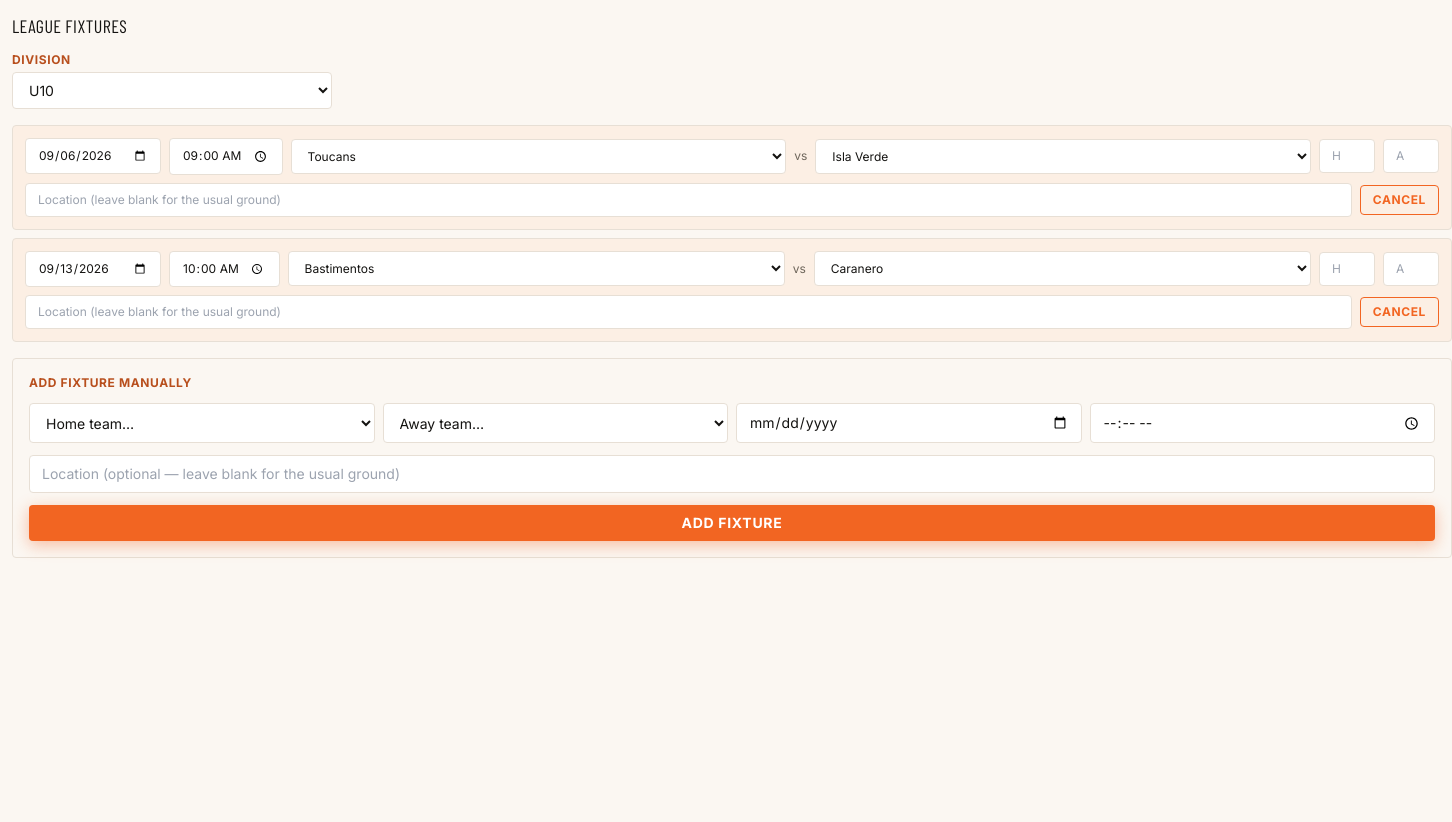
Test: LeagueFixturesAdmin — Save All › regression: a row that fails to save keeps its draft and error while a different row in the same click succeeds
expect the 1st date field showing "2026-09-06" is shown: met, box x1=25 y1=138 x2=161 y2=174
Type "2" into the 1st number field with placeholder "H" at (1347, 156), box x1=1319 y1=139 x2=1375 y2=173
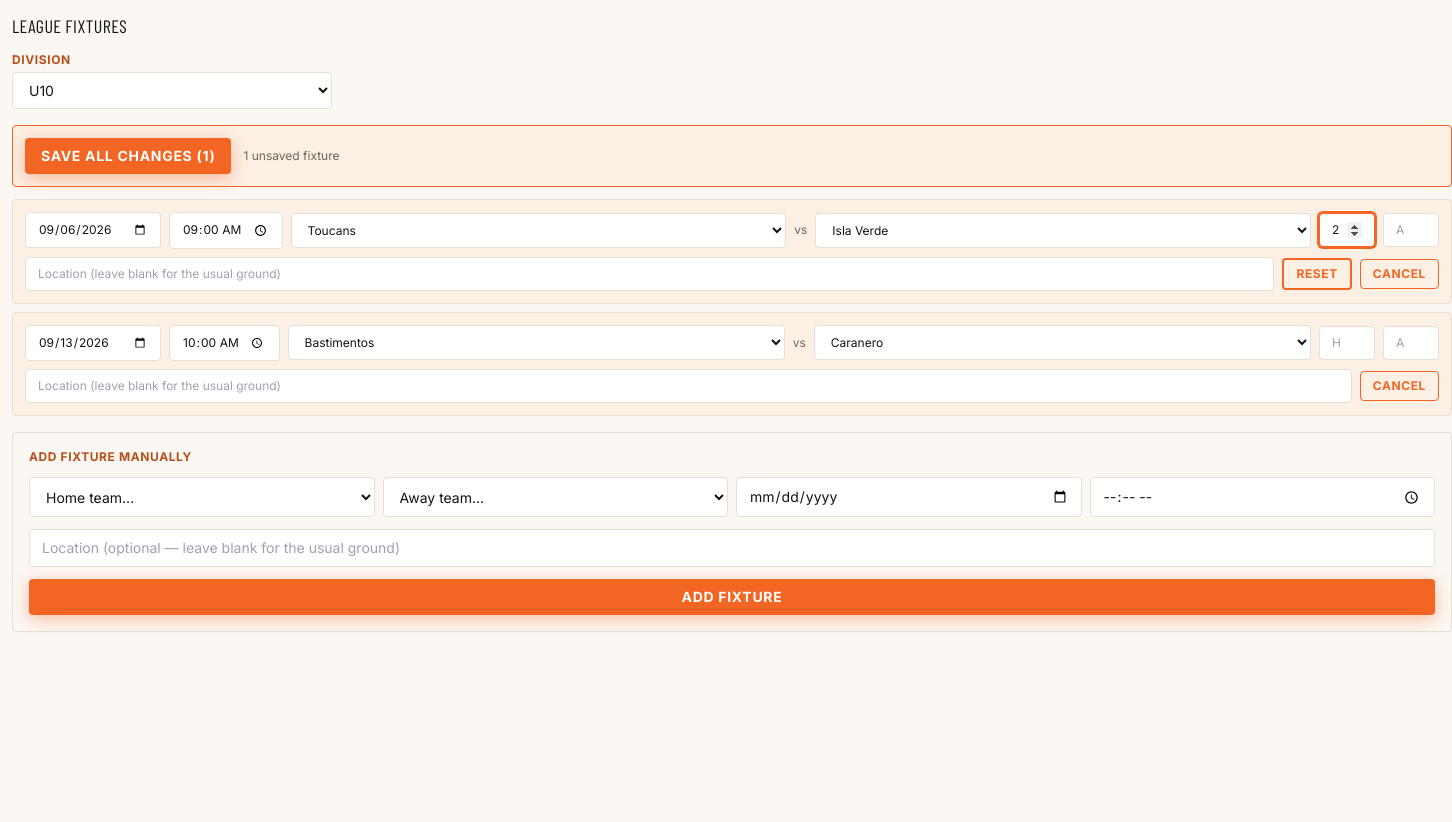
Type "0" into the 1st number field with placeholder "A" at (1411, 230), box x1=1383 y1=213 x2=1439 y2=247
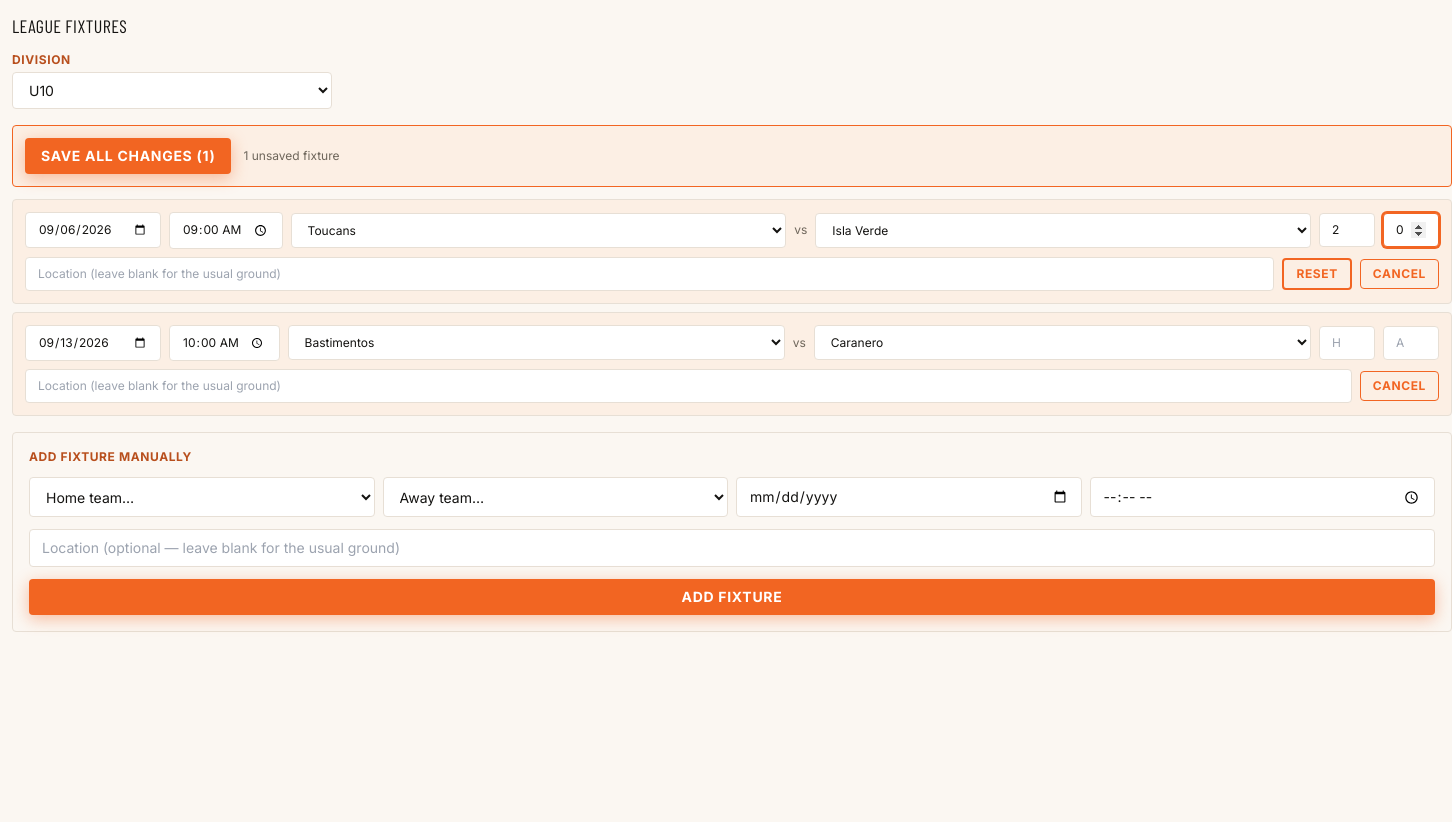
Type "1" into the number field with placeholder "H" at (1347, 343), box x1=1319 y1=326 x2=1375 y2=360
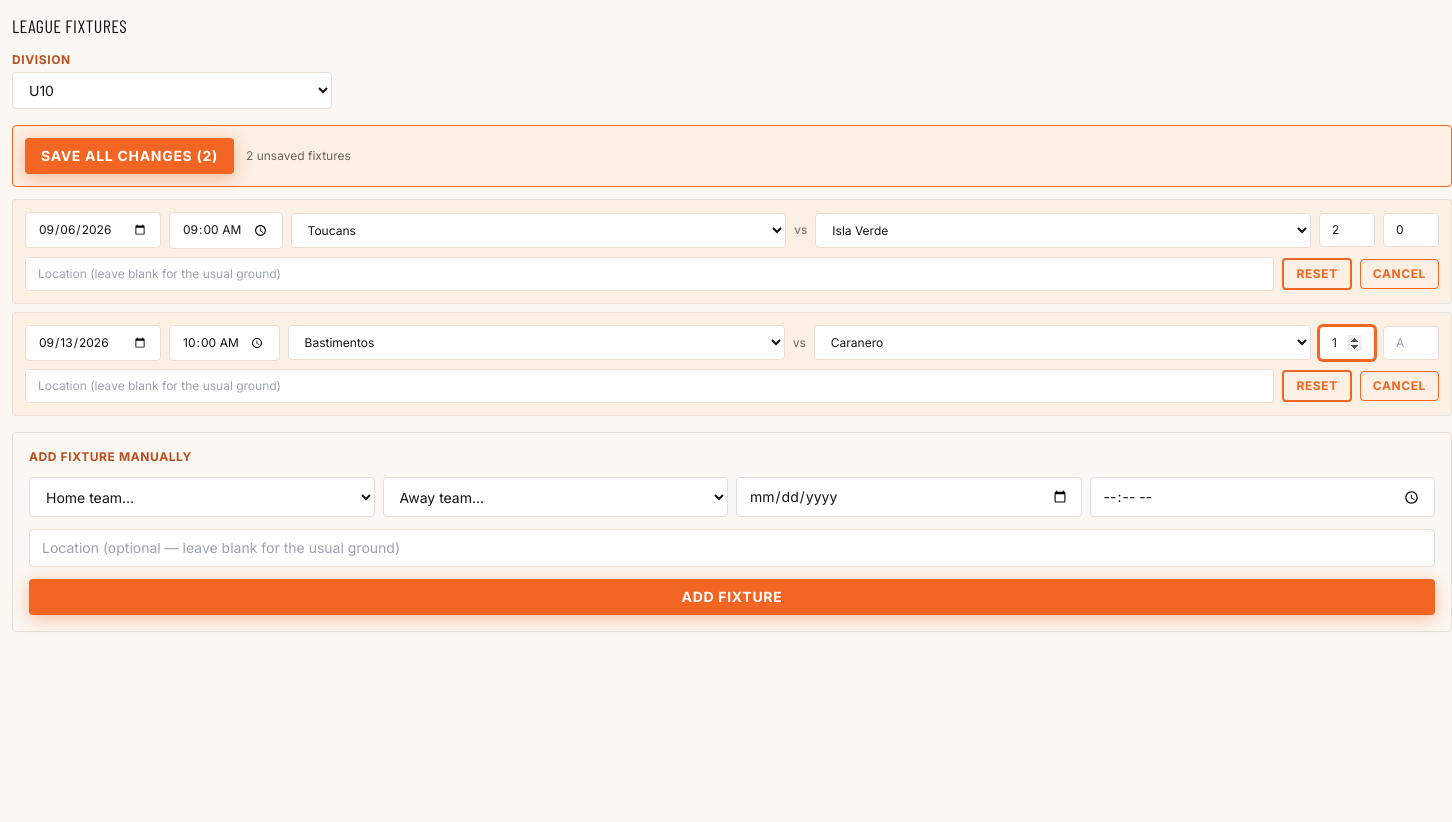
Type "1" into the number field with placeholder "A" at (1411, 343), box x1=1383 y1=326 x2=1439 y2=360
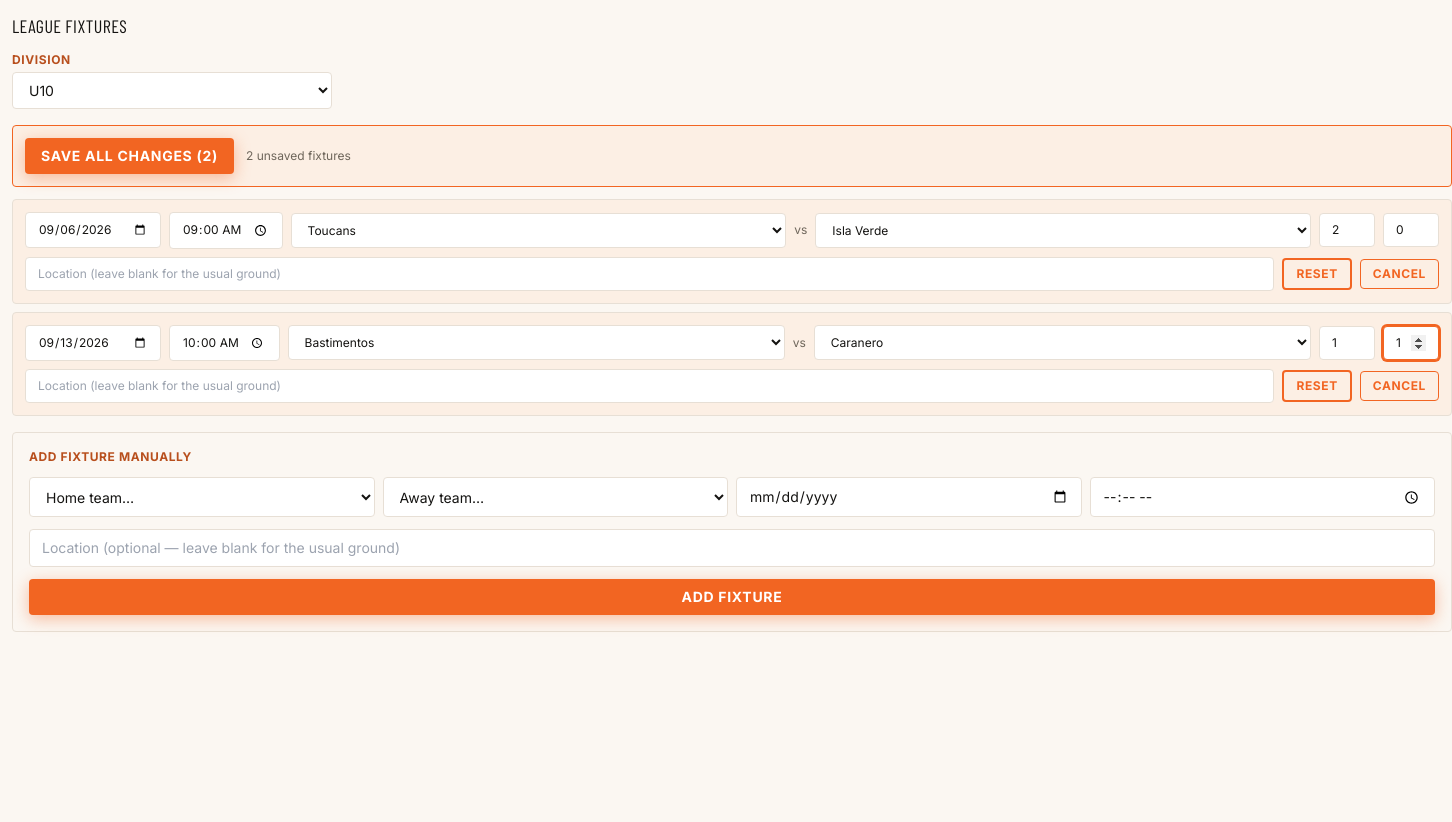
Click the button "Save All Changes (2)" at (130, 156), box x1=25 y1=138 x2=234 y2=174
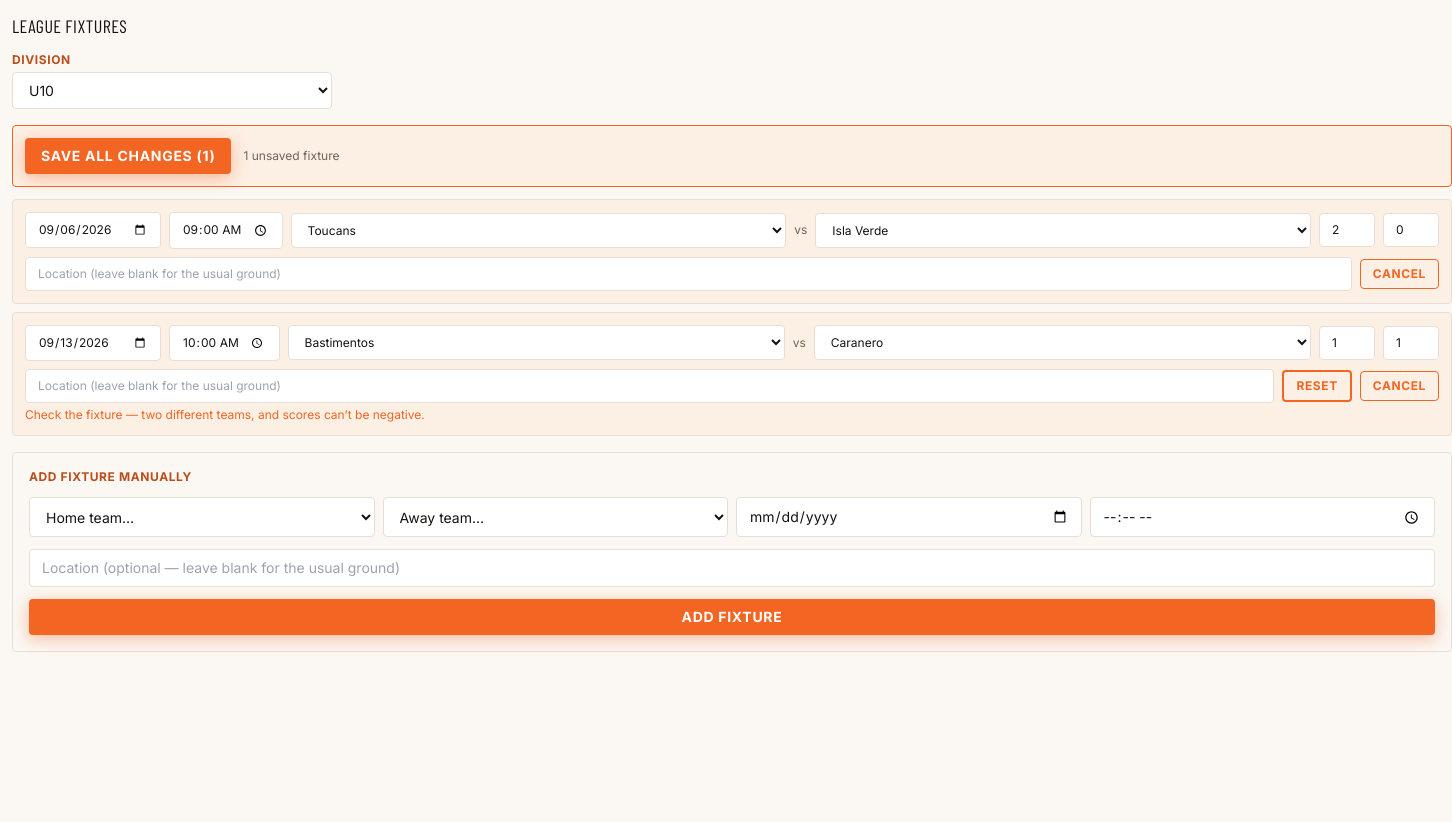
expect the text "two different teams" is shown: met, box x1=25 y1=407 x2=425 y2=422
expect the button "Save All Changes (1)" is shown: met, box x1=25 y1=138 x2=232 y2=174
